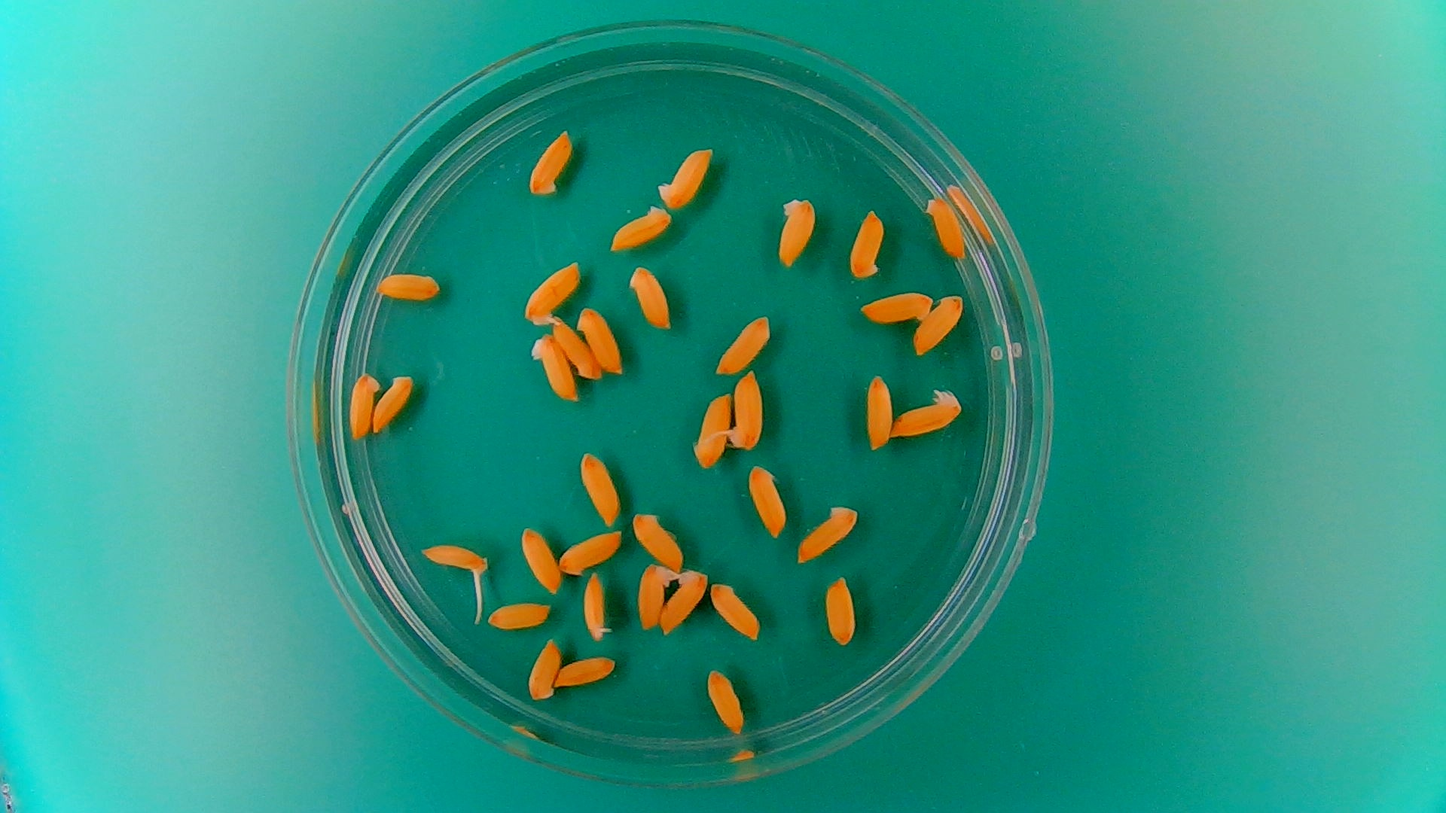no: (795, 501, 861, 565), (656, 142, 717, 211), (712, 311, 774, 376), (523, 123, 576, 199), (575, 446, 623, 527), (528, 332, 580, 406), (657, 565, 709, 638), (773, 191, 820, 270), (576, 303, 625, 378), (913, 290, 967, 358), (606, 202, 675, 254), (557, 526, 627, 577), (690, 390, 734, 471), (746, 461, 790, 540), (630, 510, 687, 569), (517, 520, 561, 595), (709, 580, 763, 641), (847, 205, 888, 285), (702, 665, 747, 737), (855, 287, 935, 327), (921, 194, 969, 260), (370, 369, 416, 435), (551, 320, 600, 381), (628, 263, 671, 332), (636, 559, 676, 632), (822, 572, 859, 648), (525, 632, 563, 704), (372, 267, 444, 305), (863, 370, 895, 452), (346, 371, 383, 441), (552, 653, 618, 692), (484, 598, 554, 632)
yes: (706, 368, 767, 456), (520, 256, 583, 326), (889, 385, 966, 440), (416, 540, 492, 580), (580, 569, 612, 644)
